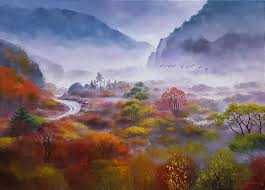forest: (6, 80, 260, 186)
mountain: (10, 14, 262, 185)
